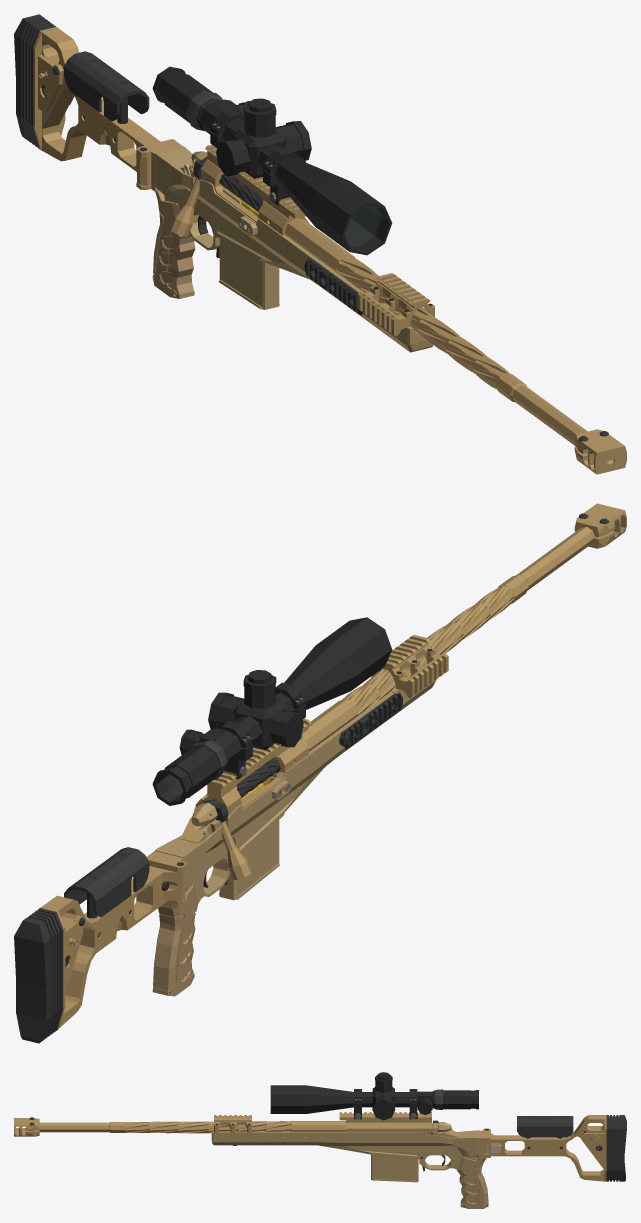
The model's file is C14 Timberwolf MRSWS 1.fbx.
The picture shows the model from 3 angles, top to bottom: view 1: azimuth 30°, elevation 25°; view 2: azimuth 150°, elevation 25°; view 3: azimuth 270°, elevation 25°; orthographic projection. The views are drawn at different scales.
Parts seen in each view (by area): view 1: C14 Timberwolf MRSWS 1, Schmidt & Bender 5-25x56 PM II Scope 1, C14 Timberwolf MRSWS 1 Stock 1, C14 Timberwolf MRSWS 1 Cheekpad 1, C14 Timberwolf MRSWS 1 Mag 1, C14 Timberwolf MRSWS 1 Rails 1, C14 Timberwolf MRSWS 1 Muzzle Brake 1, C14 Timberwolf MRSWS 1 Bolt 1, C14 Timberwolf MRSWS 1 Side Rail 1, Schmidt & Bender 5-25x56 PM II Scope 1 Mount 1.001; view 2: C14 Timberwolf MRSWS 1, Schmidt & Bender 5-25x56 PM II Scope 1, C14 Timberwolf MRSWS 1 Stock 1, C14 Timberwolf MRSWS 1 Cheekpad 1, C14 Timberwolf MRSWS 1 Rails 1, C14 Timberwolf MRSWS 1 Mag 1, C14 Timberwolf MRSWS 1 Bolt 1, C14 Timberwolf MRSWS 1 Muzzle Brake 1, C14 Timberwolf MRSWS 1 Side Rail 1, Schmidt & Bender 5-25x56 PM II Scope 1 Mount 1; view 3: C14 Timberwolf MRSWS 1, Schmidt & Bender 5-25x56 PM II Scope 1, C14 Timberwolf MRSWS 1 Stock 1, C14 Timberwolf MRSWS 1 Cheekpad 1, C14 Timberwolf MRSWS 1 Mag 1, C14 Timberwolf MRSWS 1 Rails 1, C14 Timberwolf MRSWS 1 Muzzle Brake 1, Schmidt & Bender 5-25x56 PM II Scope 1 Mount 1, Schmidt & Bender 5-25x56 PM II Scope 1 Mount 1.001.
Boxes of the visible parts, bbox=[...] form: C14 Timberwolf MRSWS 1: bbox=[136, 139, 587, 445]; Schmidt & Bender 5-25x56 PM II Scope 1: bbox=[152, 66, 392, 255]; C14 Timberwolf MRSWS 1 Stock 1: bbox=[14, 14, 160, 186]; C14 Timberwolf MRSWS 1 Cheekpad 1: bbox=[64, 51, 149, 123]; C14 Timberwolf MRSWS 1 Mag 1: bbox=[219, 187, 279, 309]; C14 Timberwolf MRSWS 1 Rails 1: bbox=[357, 273, 434, 336]; C14 Timberwolf MRSWS 1 Muzzle Brake 1: bbox=[574, 429, 626, 474]; C14 Timberwolf MRSWS 1 Bolt 1: bbox=[169, 156, 263, 236]; C14 Timberwolf MRSWS 1 Side Rail 1: bbox=[304, 258, 362, 315]; Schmidt & Bender 5-25x56 PM II Scope 1 Mount 1.001: bbox=[263, 147, 305, 205]; C14 Timberwolf MRSWS 1: bbox=[146, 526, 596, 996]; Schmidt & Bender 5-25x56 PM II Scope 1: bbox=[152, 617, 392, 805]; C14 Timberwolf MRSWS 1 Stock 1: bbox=[14, 862, 185, 1043]; C14 Timberwolf MRSWS 1 Cheekpad 1: bbox=[64, 847, 149, 918]; C14 Timberwolf MRSWS 1 Rails 1: bbox=[371, 635, 448, 698]; C14 Timberwolf MRSWS 1 Mag 1: bbox=[219, 776, 279, 900]; C14 Timberwolf MRSWS 1 Bolt 1: bbox=[202, 758, 280, 880]; C14 Timberwolf MRSWS 1 Muzzle Brake 1: bbox=[574, 503, 626, 548]; C14 Timberwolf MRSWS 1 Side Rail 1: bbox=[339, 692, 402, 749]; Schmidt & Bender 5-25x56 PM II Scope 1 Mount 1: bbox=[219, 721, 252, 779]; C14 Timberwolf MRSWS 1: bbox=[39, 1112, 490, 1208]; Schmidt & Bender 5-25x56 PM II Scope 1: bbox=[270, 1072, 478, 1120]; C14 Timberwolf MRSWS 1 Stock 1: bbox=[484, 1115, 626, 1181]; C14 Timberwolf MRSWS 1 Cheekpad 1: bbox=[517, 1116, 573, 1138]; C14 Timberwolf MRSWS 1 Mag 1: bbox=[371, 1155, 418, 1182]; C14 Timberwolf MRSWS 1 Rails 1: bbox=[214, 1115, 251, 1132]; C14 Timberwolf MRSWS 1 Muzzle Brake 1: bbox=[14, 1117, 39, 1136]; Schmidt & Bender 5-25x56 PM II Scope 1 Mount 1: bbox=[409, 1089, 417, 1119]; Schmidt & Bender 5-25x56 PM II Scope 1 Mount 1.001: bbox=[354, 1089, 361, 1119].
Size of the model in its own units: 11.5 by 33.85 by 143.
